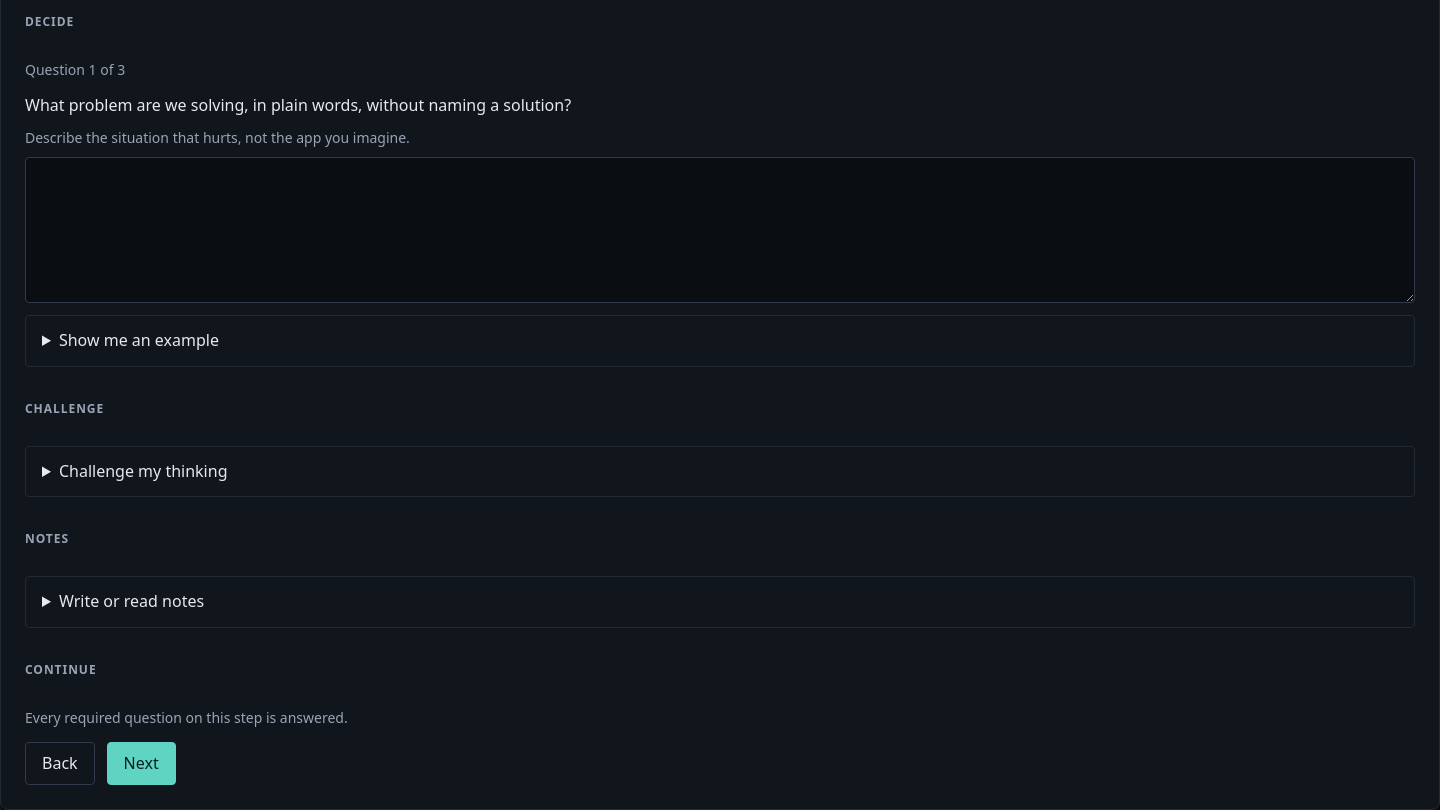
Test: StepPanelComponent › a step with several questions › ends on the last question of the last step with a message instead of Continue
(page scrolled)
Click the button "Next" at (141, 763), box 107,742 -> 176,785
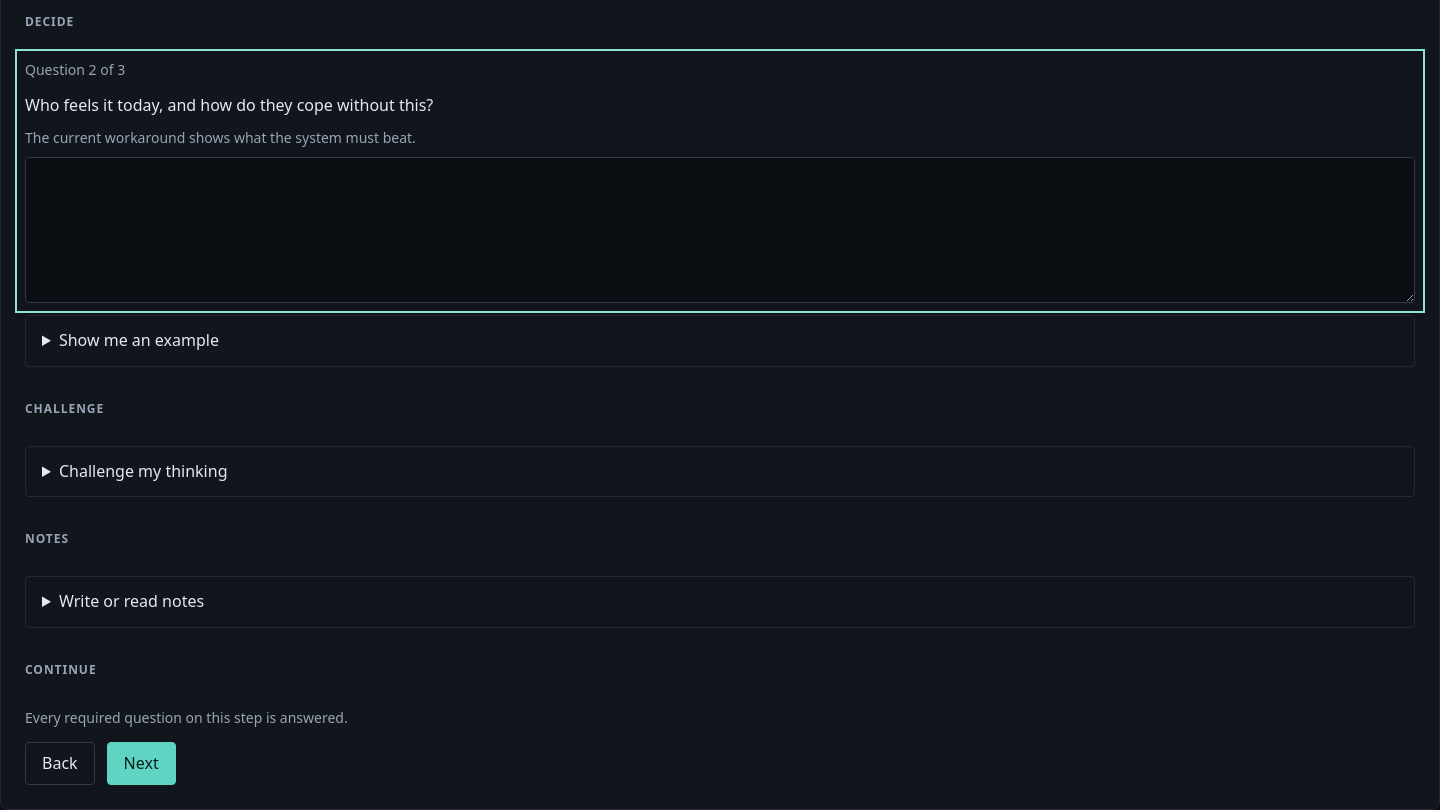
Click the button "Next" at (141, 763), box 107,742 -> 176,785
(page scrolled)
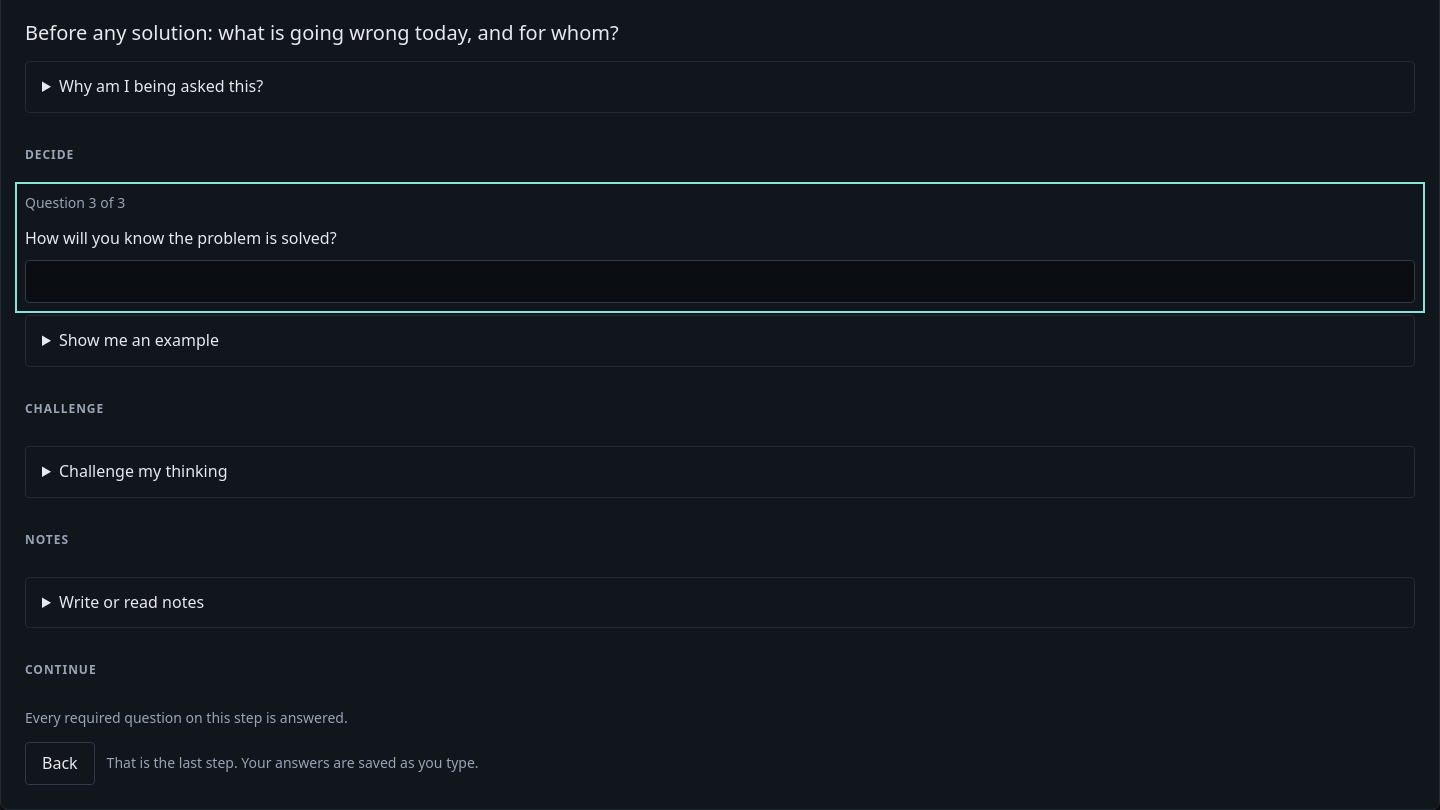
Expected: the text with class "step__end" shows "last step", 107,753 -> 479,772
